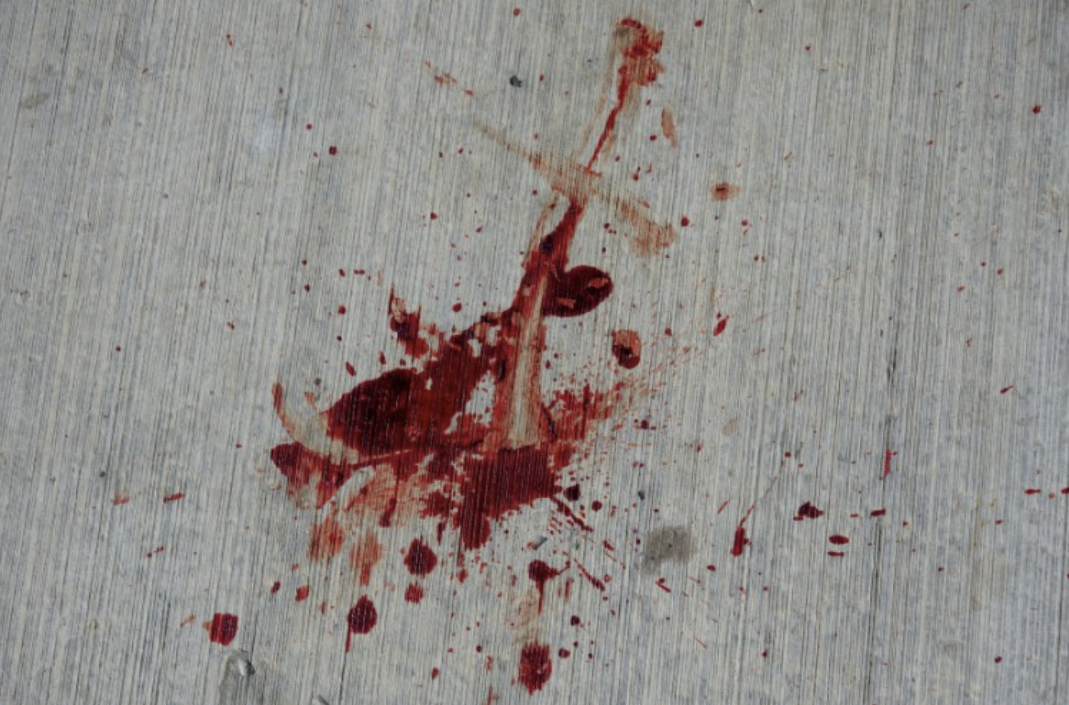blood_10.png: (259, 13, 913, 694)
